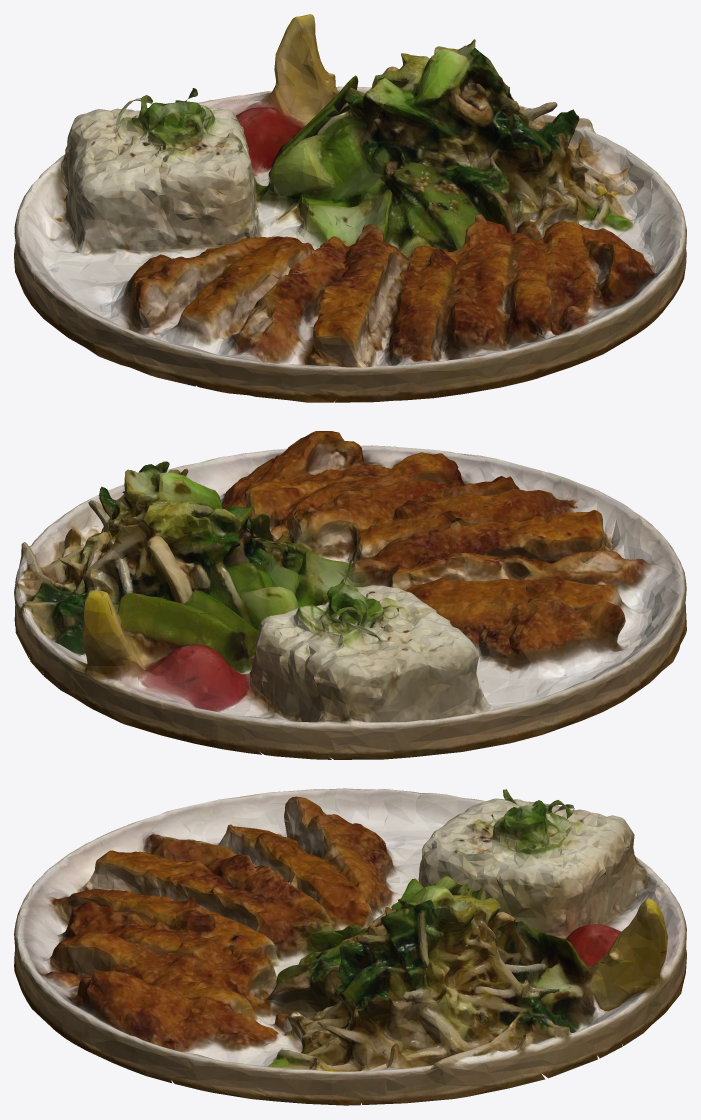
3 renders of one model, top to bottom at view 1: azimuth 30°, elevation 25°; view 2: azimuth 150°, elevation 25°; view 3: azimuth 270°, elevation 25°, orthographic.
Parts seen in each view (by area): view 1: geom; view 2: geom; view 3: geom.
Boxes of the visible parts, x1,y1,x2,y2 form: geom: [14, 14, 686, 402]; geom: [14, 431, 686, 759]; geom: [14, 788, 686, 1105].
Bounding box in the file's own units: 0.2663 × 0.0624 × 0.2659.
Materials: 1 (1 with a texture image).
